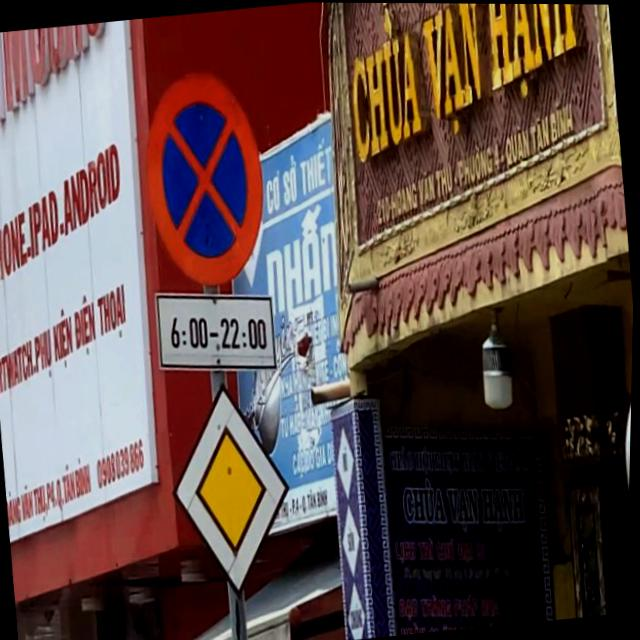Cam dung xe va do xe: (133, 63, 277, 293)
